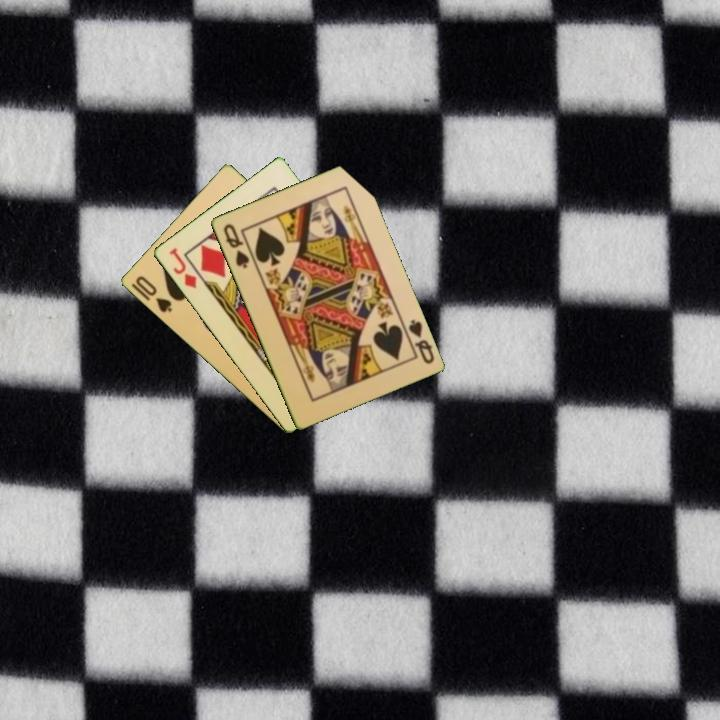10s: (132, 272, 175, 315)
Jd: (165, 244, 199, 292)
Qs: (219, 220, 252, 271), (404, 316, 437, 367)
